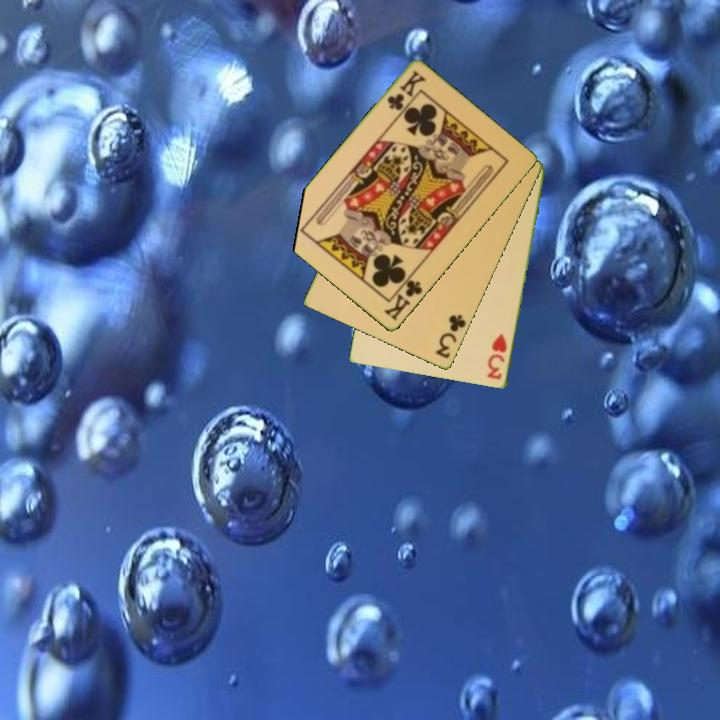3c: (432, 311, 469, 362)
3h: (484, 330, 510, 383)
Kc: (380, 271, 426, 324), (384, 67, 429, 114)
